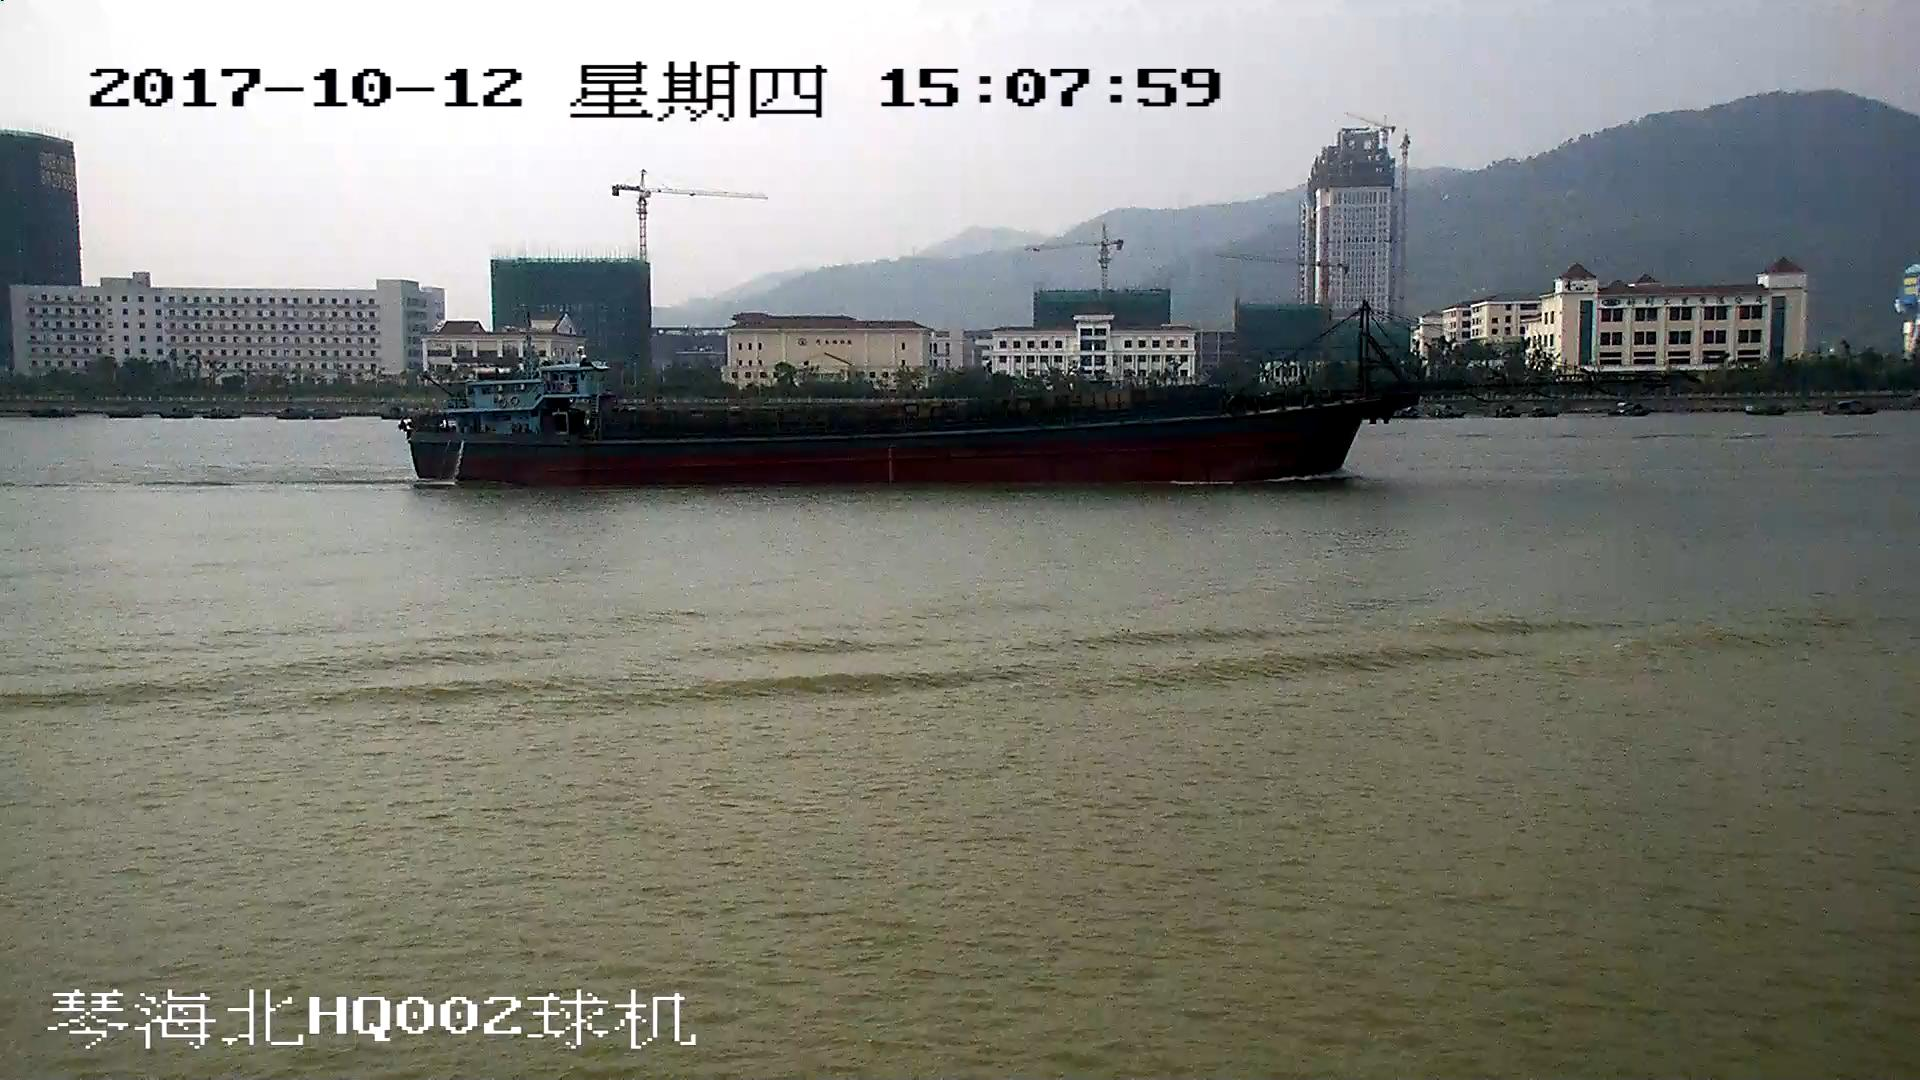bulk cargo carrier: (405, 305, 1540, 482)
